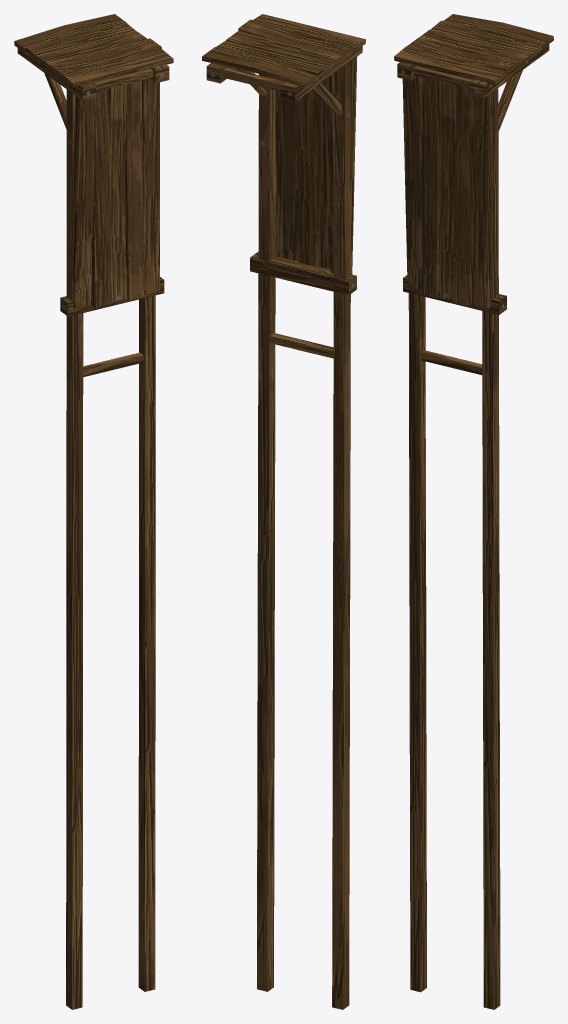
File: GameReadyWandPlattformC.glb
3 views of the same model, side by side, from view 1: azimuth 30°, elevation 25°; view 2: azimuth 150°, elevation 25°; view 3: azimuth 330°, elevation 25° (orthographic). The views are drawn at different scales.
Visible parts, largest first — view 1: PlattformC-col; view 2: PlattformC-col; view 3: PlattformC-col.
Boxes of the visible parts, x1,y1,x2,y2 form: PlattformC-col: (14,14,173,1009); PlattformC-col: (202,14,365,1009); PlattformC-col: (394,14,553,1009).
Size of the model in its own units: 1.78 by 15.86 by 2.
Materials: 1 (1 with a texture image).
